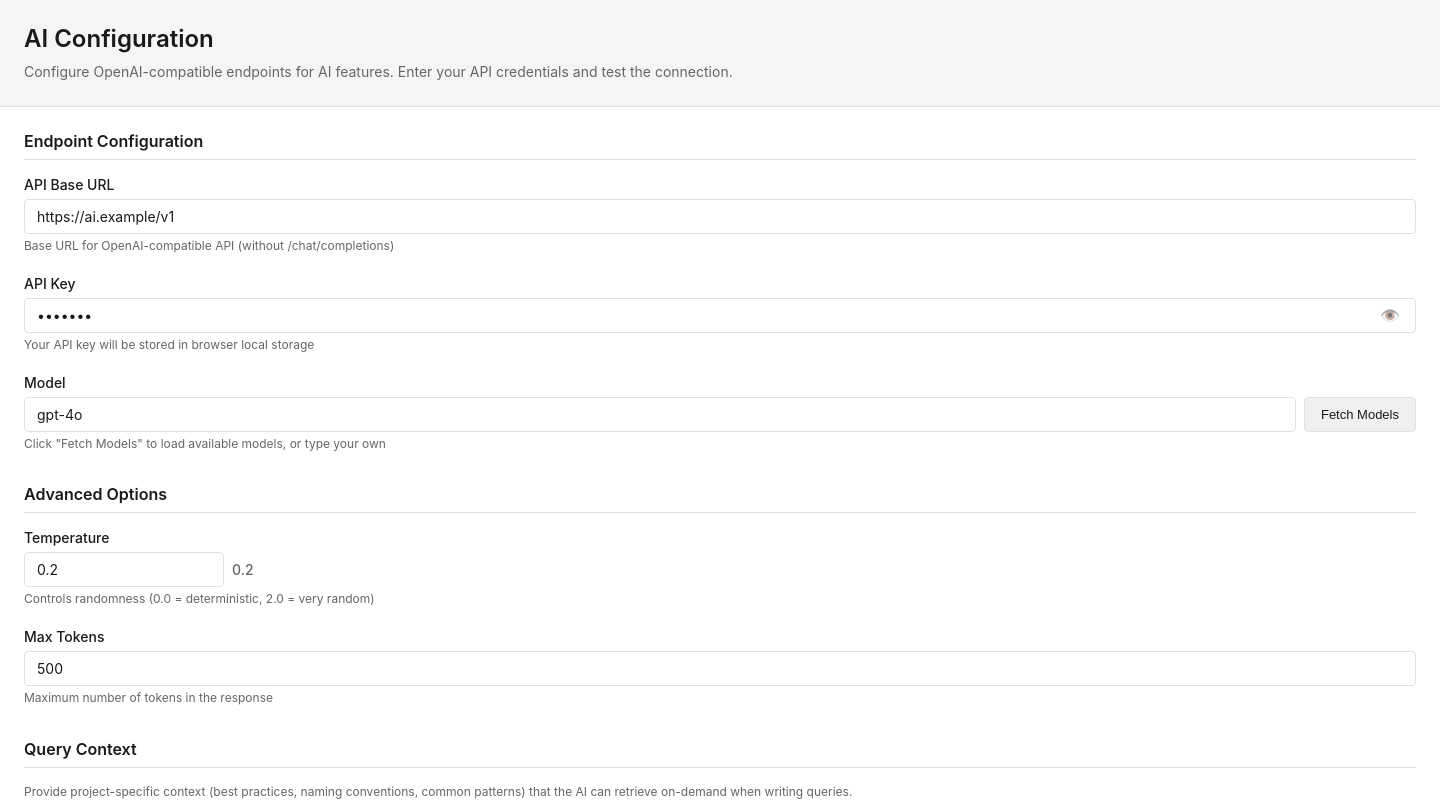
AISettingsView › shows no warning when the current model is in the list
What coordinates should you click on to do the following:
click the button with class "btn-fetch-models"
I would click on:
 (1360, 414)
Its box is x1=1304 y1=397 x2=1416 y2=432.
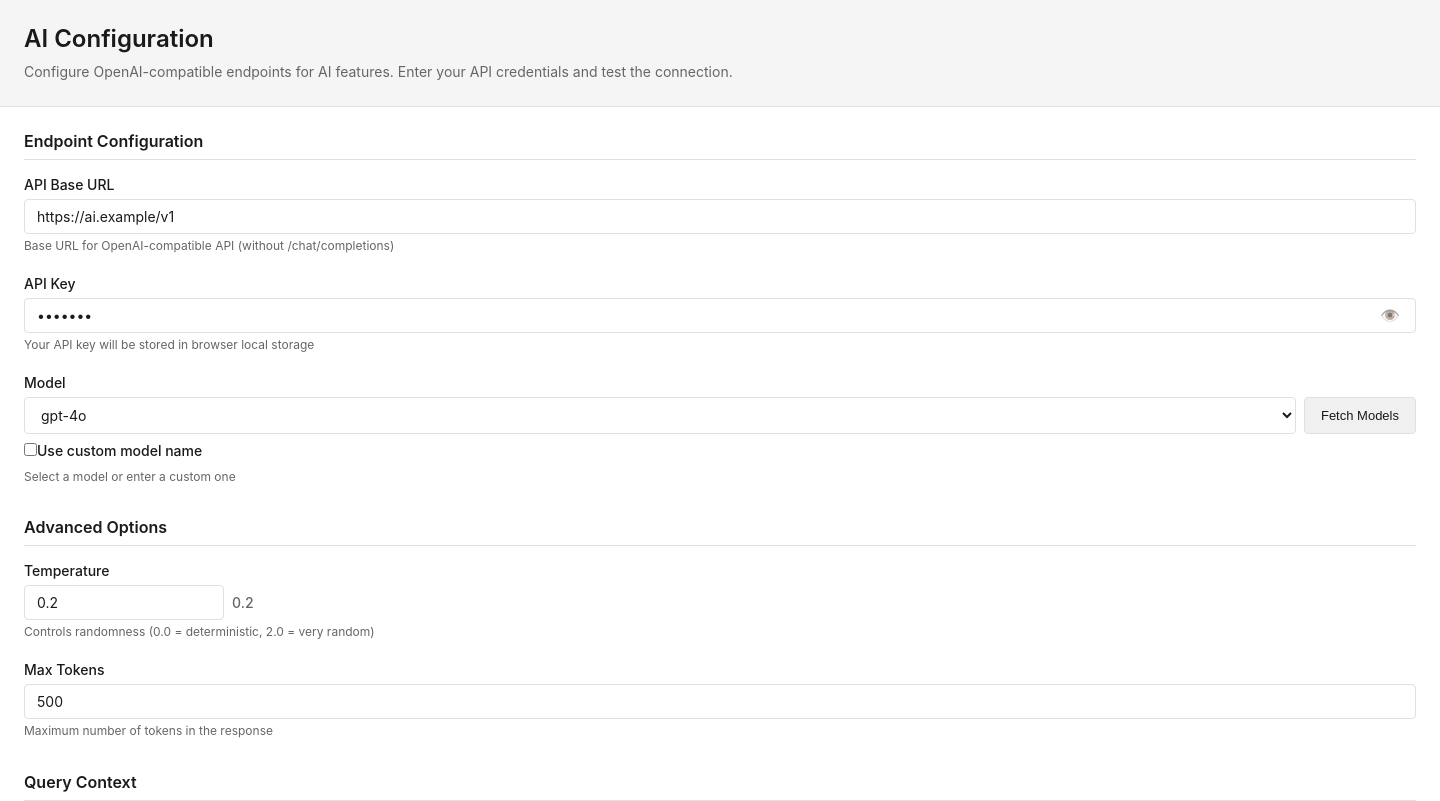
Check: the text "Select a model or enter a custom one" is shown, box x1=24 y1=469 x2=236 y2=484
